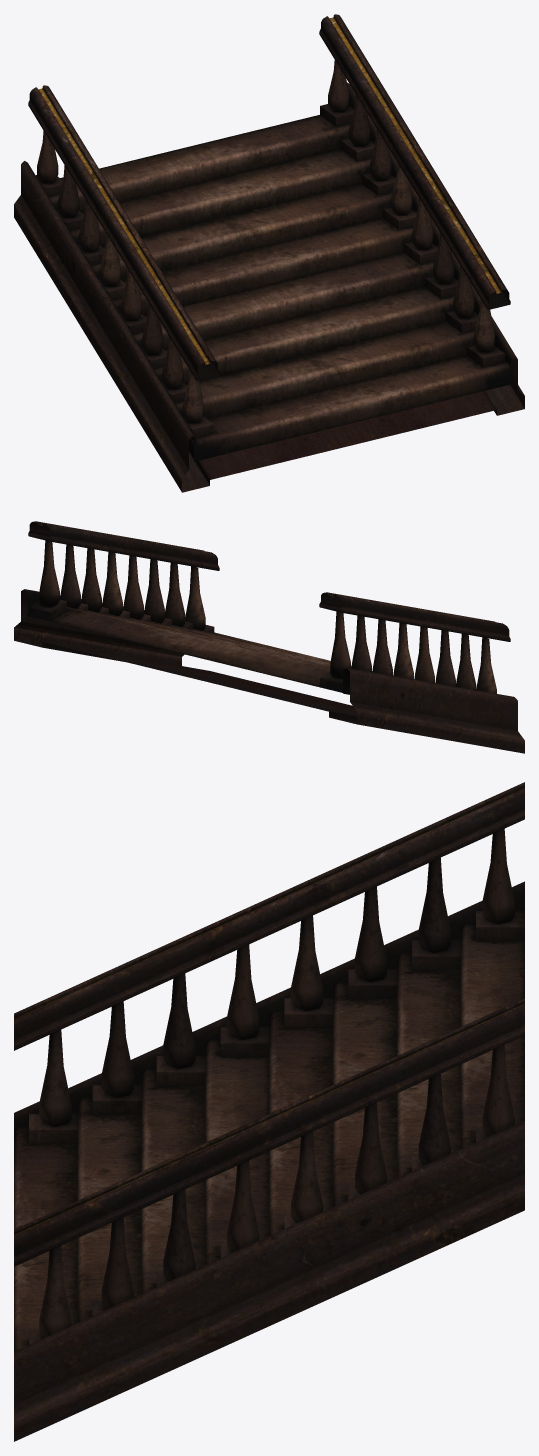
3 renders of one model, top to bottom at view 1: azimuth 30°, elevation 25°; view 2: azimuth 150°, elevation 25°; view 3: azimuth 270°, elevation 25°, orthographic. The views are drawn at different scales.
Parts seen in each view (by area): view 1: mansionbase_stairs; view 2: mansionbase_stairs; view 3: mansionbase_stairs.
Part boxes in pixels (x1,y1,x2,y2): mansionbase_stairs: [14, 14, 524, 492]; mansionbase_stairs: [14, 521, 524, 753]; mansionbase_stairs: [14, 782, 524, 1441].
Size of what is drawn, in the model's own units: 4.71 by 3.64 by 4.
